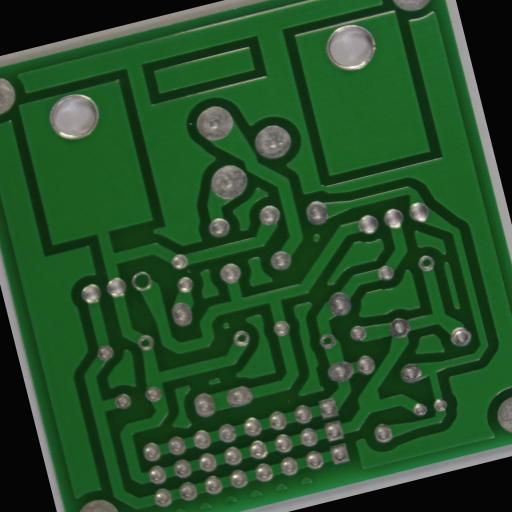missing_hole: (128, 269, 154, 295), (415, 254, 436, 274), (229, 330, 250, 350), (134, 334, 154, 352), (318, 334, 336, 351)
